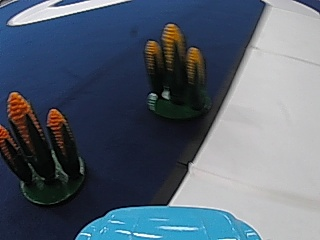corn: (5, 94, 85, 204), (143, 23, 212, 123)
